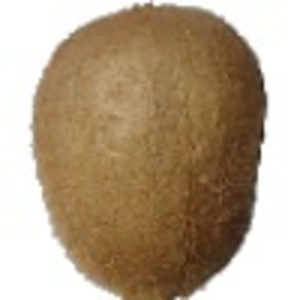kiwi: (29, 1, 269, 300)
